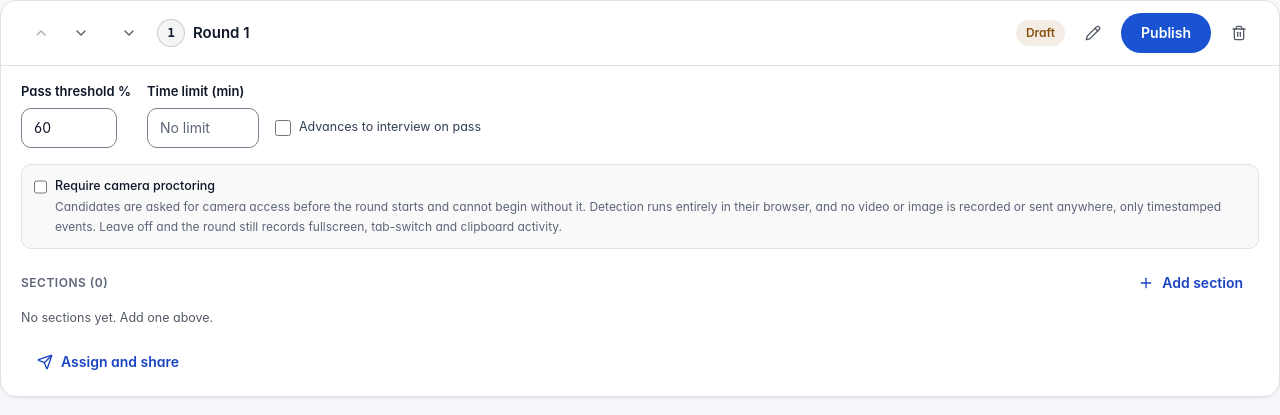
Scenario: round panel › puts the blank back when 0 is typed into a round with no limit (re-audit)
Type "0" into the number field named "round time limit in minutes" at (203, 128), box x1=147 y1=108 x2=259 y2=148
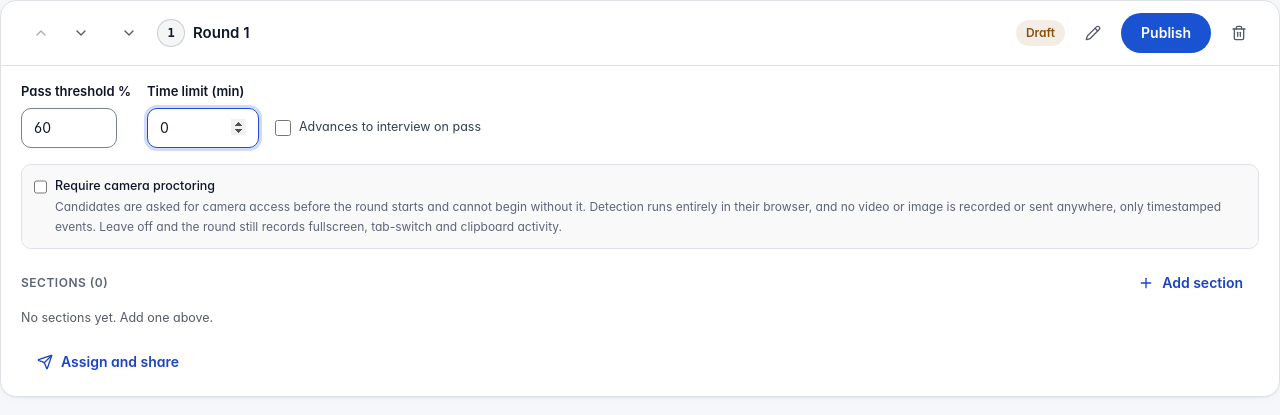
Press Tab
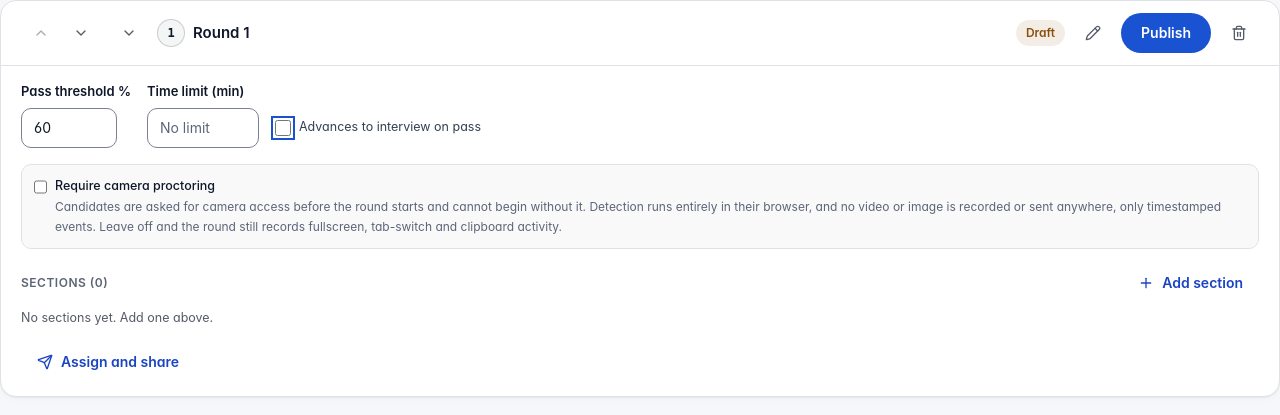
Now the number field named "round time limit in minutes" is not empty, box x1=147 y1=108 x2=259 y2=148
